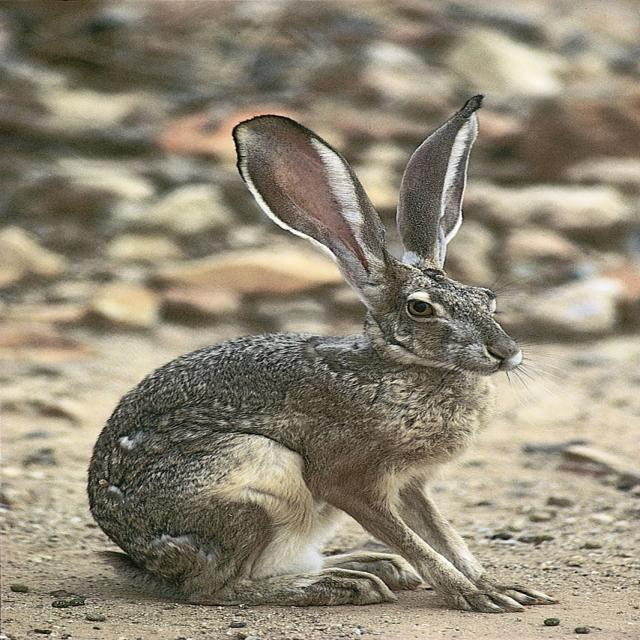Hare: (81, 92, 541, 612)
